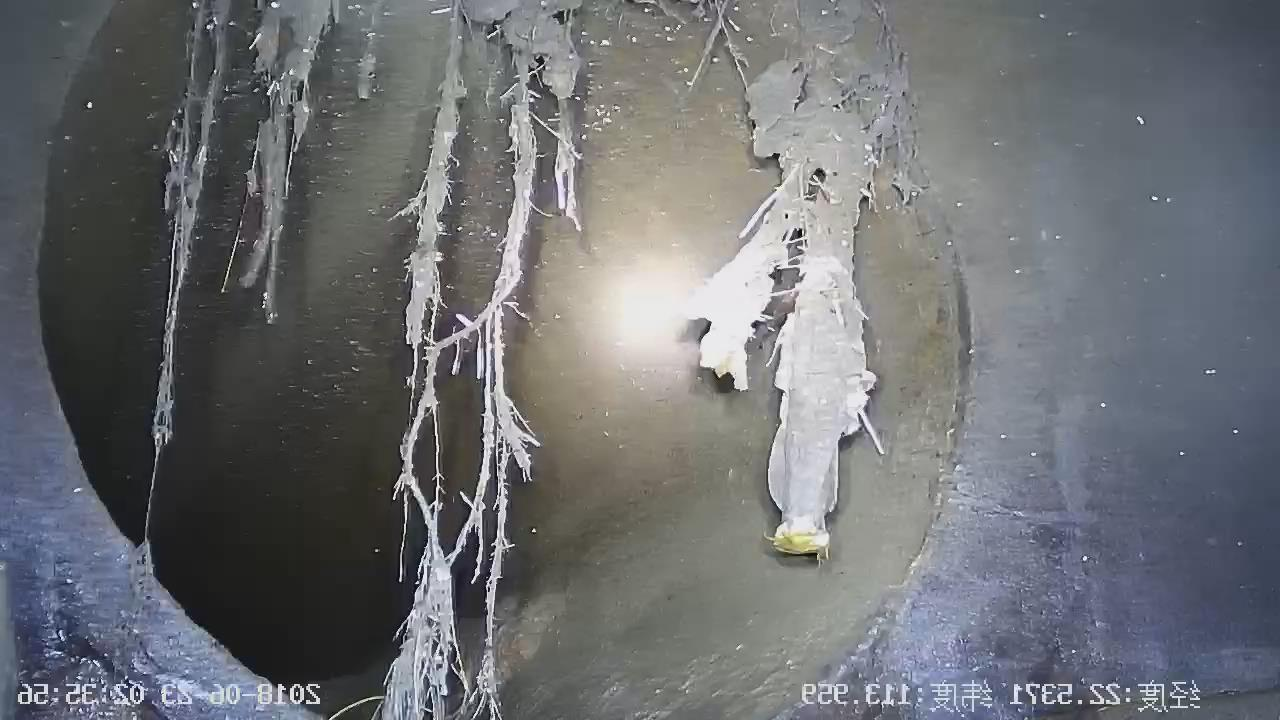SG: (380, 5, 581, 719), (681, 60, 879, 558), (223, 0, 338, 319), (153, 0, 232, 459)
